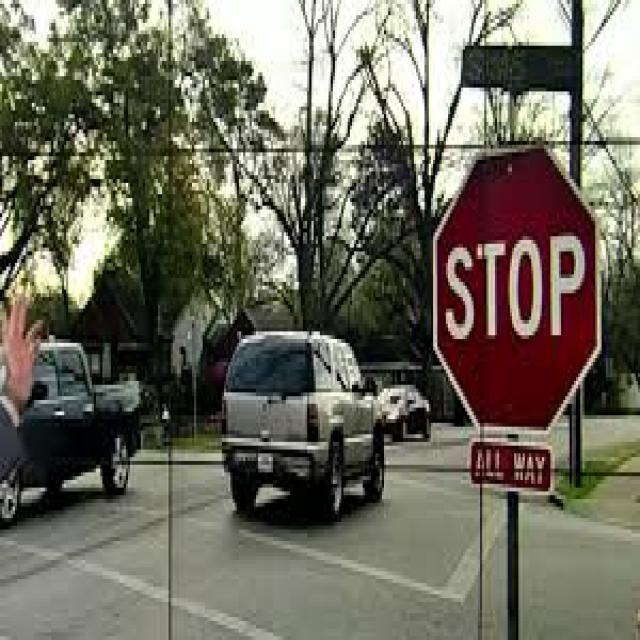stop-sign: (426, 142, 597, 439)
